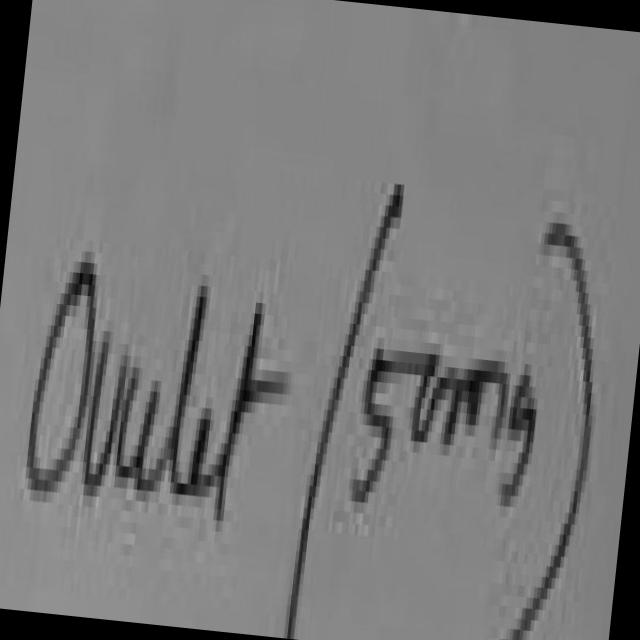0: (412, 352, 442, 441)
5: (352, 349, 423, 501)
O: (27, 262, 96, 489)
e: (190, 404, 218, 502)
g: (504, 375, 541, 506)
l: (152, 285, 210, 507)
m: (444, 355, 510, 445)
t: (217, 303, 282, 515)
u: (115, 367, 163, 504)
v: (84, 342, 125, 495)
